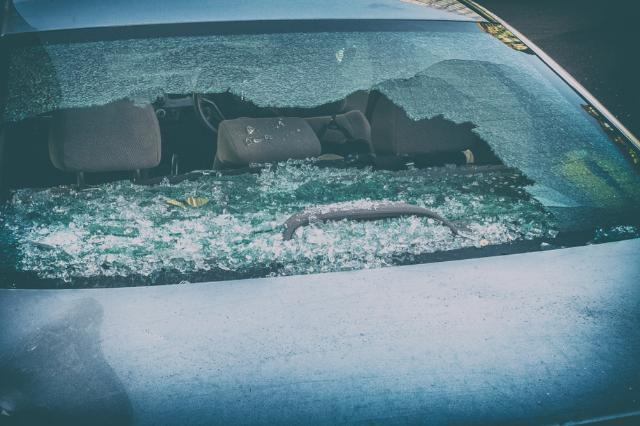Bumper: (0, 27, 605, 278)
